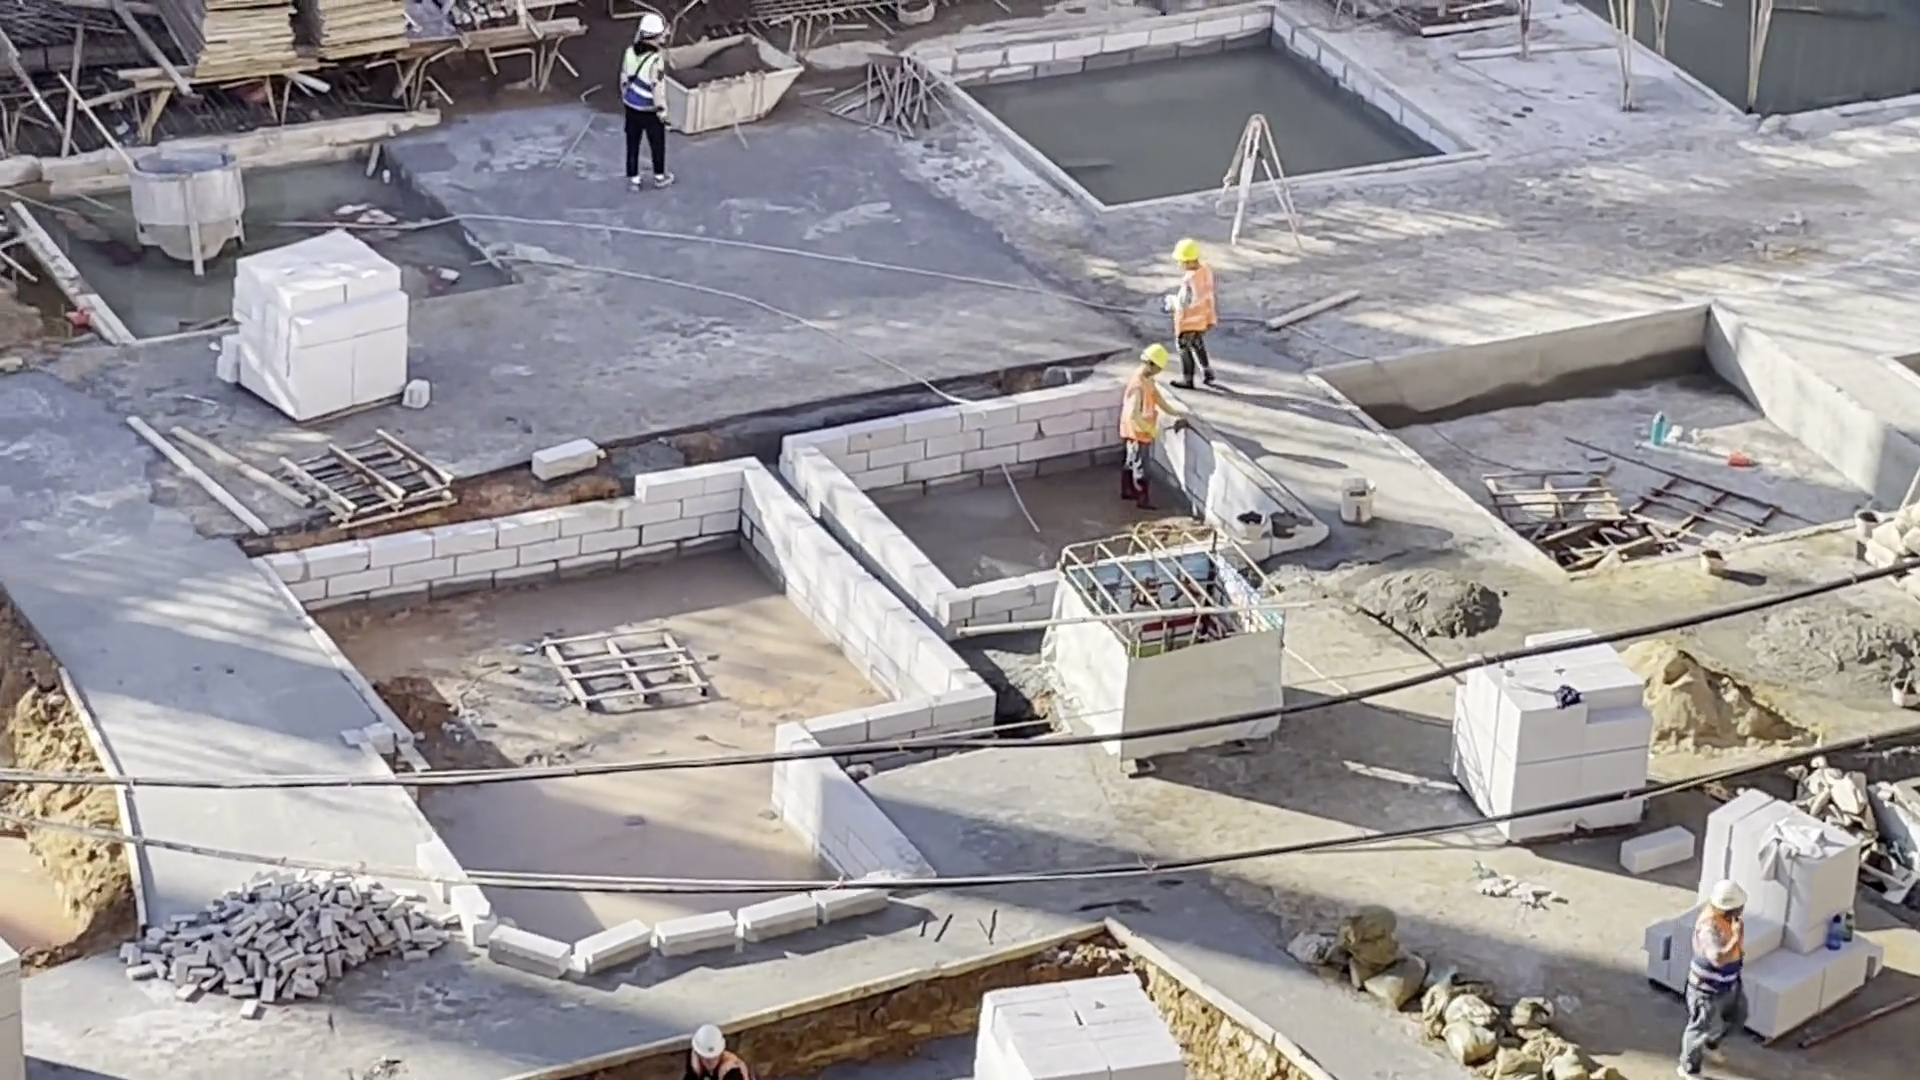helmet: (1699, 875, 1749, 913), (689, 1023, 732, 1061), (1170, 236, 1204, 263), (1140, 344, 1169, 375), (638, 12, 666, 36)
person: (1667, 875, 1759, 1080), (617, 12, 692, 200), (1112, 339, 1184, 512), (1164, 234, 1222, 390), (681, 1023, 752, 1080)
vest: (1688, 910, 1748, 994), (1118, 369, 1164, 446), (1170, 267, 1219, 335), (624, 44, 662, 114)
